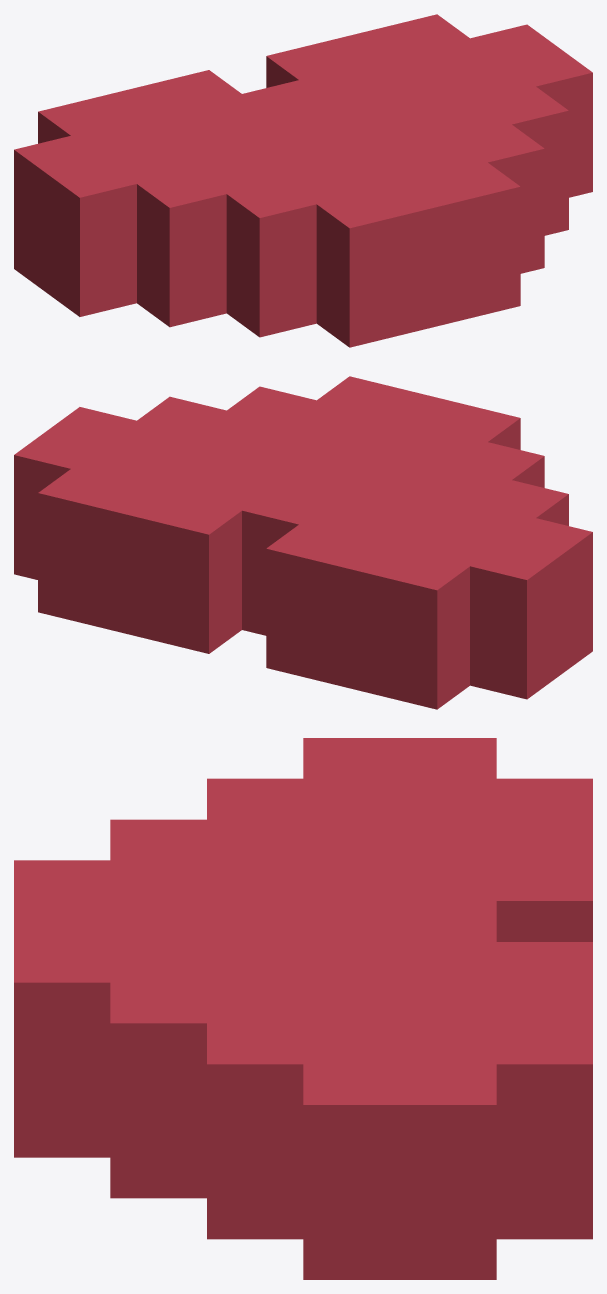
Rendered from heart.obj.
The picture shows the model from 3 angles, top to bottom: view 1: azimuth 30°, elevation 25°; view 2: azimuth 150°, elevation 25°; view 3: azimuth 270°, elevation 25°; orthographic projection. The views are drawn at different scales.
Visible parts, largest first — view 1: heart; view 2: heart; view 3: heart.
Boxes of the visible parts, <box> form: heart: <box>14,14,592,347</box>; heart: <box>14,376,592,709</box>; heart: <box>14,738,592,1279</box>.
Size of the model in its own units: 0.55 by 0.1222 by 0.3667.
